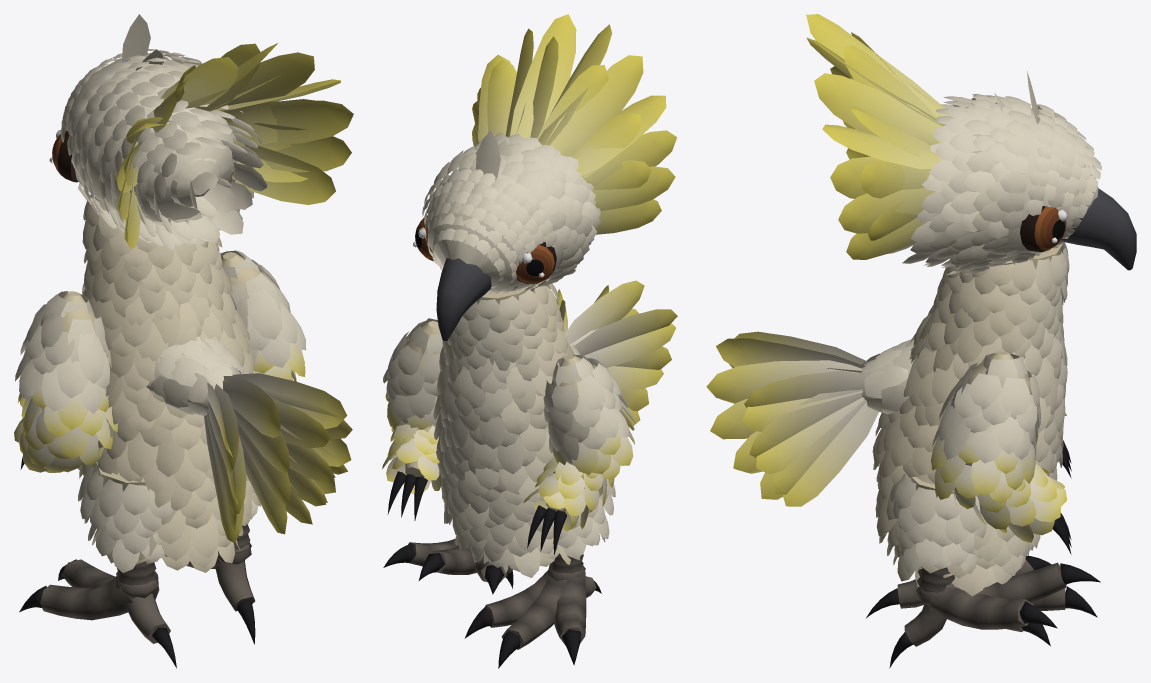
Rendered from Cockatoo_HQ_static.fbx.
The picture shows the model from 3 angles, left to right: view 1: azimuth 30°, elevation 25°; view 2: azimuth 150°, elevation 25°; view 3: azimuth 270°, elevation 25°; orthographic projection. The views are drawn at different scales.
Parts seen in each view (by area): view 1: Body, Head, Tail, Crest, ArmL, LegL, ArmR, FootL, FootR; view 2: Body, Crest, Head, ArmL, ArmR, Tail, FootL, FootR, LegL; view 3: Body, Head, Tail, Crest, ArmR, FootR, LegR, FootL.
Boxes of the visible parts, x1,y1,x2,y2 form: Body: (79, 194, 260, 572); Head: (49, 49, 267, 251); Tail: (146, 336, 352, 543); Crest: (115, 14, 353, 248); ArmL: (14, 291, 118, 472); LegL: (78, 462, 172, 585); ArmR: (220, 250, 306, 381); FootL: (19, 559, 176, 668); FootR: (186, 534, 255, 644); Body: (433, 276, 580, 577); Crest: (472, 14, 677, 234); Head: (413, 132, 600, 340); ArmL: (523, 355, 635, 554); ArmR: (382, 318, 442, 520); Tail: (557, 280, 677, 425); FootL: (464, 565, 601, 668); FootR: (383, 538, 513, 594); LegL: (549, 479, 615, 573); Body: (872, 242, 1069, 596); Head: (889, 94, 1136, 274); Tail: (706, 331, 914, 506); Crest: (806, 14, 1040, 259); ArmR: (931, 351, 1071, 554); FootR: (889, 555, 1100, 668); LegR: (889, 473, 986, 597); FootL: (866, 579, 1097, 646).
Bounding box in the file's own units: 336 × 743 × 466.
